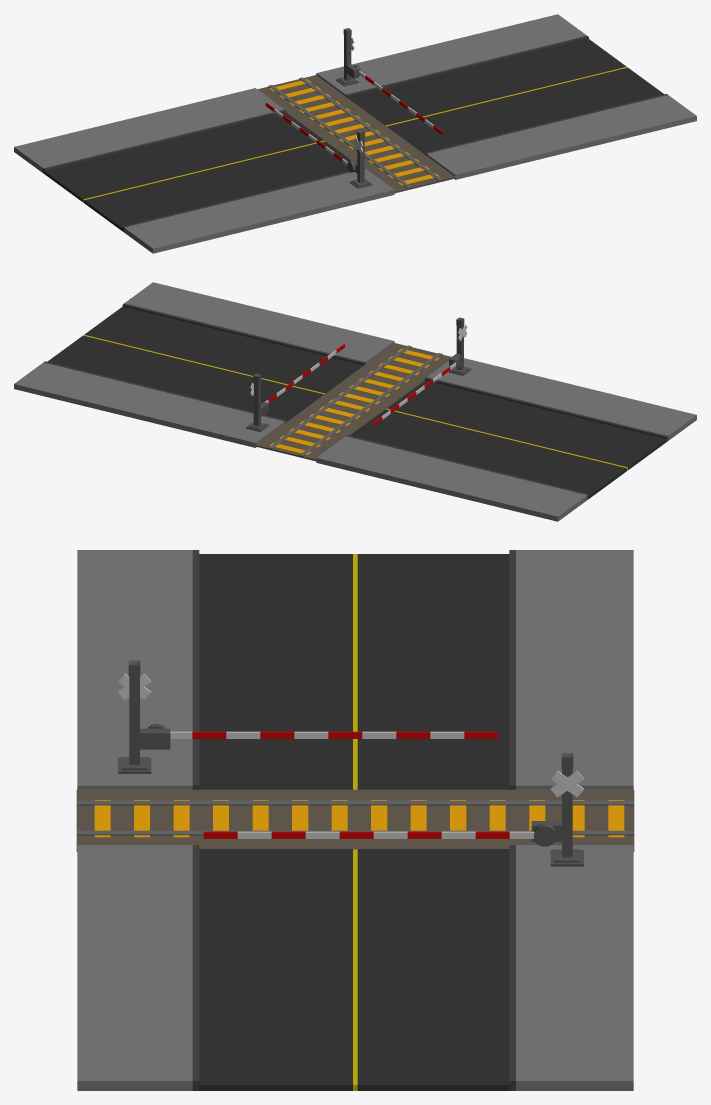
File: m_train_1.fbx
3 views of the same model, one above another, from view 1: azimuth 30°, elevation 25°; view 2: azimuth 150°, elevation 25°; view 3: azimuth 270°, elevation 25° (orthographic). The views are drawn at different scales.
Visible parts, largest first — view 1: Pavement_2, Pavement_2_2, Road, Road_3, Fence_Ground_1_2, Fence_Ground_1, Fence_Ground, Fence_Ground_4, railway_terrain_1, woods, Fence_Ground_5, railway (+9 smaller); view 2: Road, Road_3, Fence_Ground, Pavement_2, Pavement_2_2, Fence_Ground_4, Fence_Ground_1_2, Fence_Ground_1, railway_terrain_1, woods, Fence_Ground_6, Fence_Ground_3 (+9 smaller); view 3: Road_3, Pavement_2_2, Road, Pavement_2, Fence_Ground, Fence_Ground_1_2, Fence_Ground_4, Fence_Ground_1, railway_terrain_1, woods, railway_1, Cube_3 (+9 smaller).
Part boxes in pixels (<box>): Pavement_2: <box>45,113,323,201</box>; Pavement_2_2: <box>348,39,626,125</box>; Road: <box>84,141,350,230</box>; Road_3: <box>387,67,663,154</box>; Fence_Ground_1_2: <box>426,95,696,179</box>; Fence_Ground_1: <box>124,168,394,253</box>; Fence_Ground: <box>14,88,286,174</box>; Fence_Ground_4: <box>316,14,586,96</box>; railway_terrain_1: <box>258,75,455,193</box>; woods: <box>269,79,439,185</box>; Fence_Ground_5: <box>345,36,588,97</box>; railway: <box>299,77,442,181</box>; Road: <box>387,380,666,469</box>; Road_3: <box>84,306,363,393</box>; Fence_Ground: <box>316,435,588,521</box>; Pavement_2: <box>350,409,626,498</box>; Pavement_2_2: <box>47,335,323,421</box>; Fence_Ground_4: <box>14,362,284,447</box>; Fence_Ground_1_2: <box>124,282,394,363</box>; Fence_Ground_1: <box>427,358,696,440</box>; railway_terrain_1: <box>255,343,451,461</box>; woods: <box>269,348,439,454</box>; Fence_Ground_6: <box>122,303,365,365</box>; Fence_Ground_3: <box>425,377,667,441</box>; Road_3: <box>199,849,352,1090</box>; Pavement_2_2: <box>357,849,511,1090</box>; Road: <box>199,554,352,789</box>; Pavement_2: <box>357,554,509,789</box>; Fence_Ground: <box>509,550,633,789</box>; Fence_Ground_1_2: <box>77,845,192,1090</box>; Fence_Ground_4: <box>516,845,633,1090</box>; Fence_Ground_1: <box>77,550,192,789</box>; railway_terrain_1: <box>76,789,634,851</box>; woods: <box>94,800,624,837</box>; railway_1: <box>76,800,634,805</box>; Cube_3: <box>203,831,534,838</box>.
Size of the model in its own units: 5630 by 565 by 2500.
